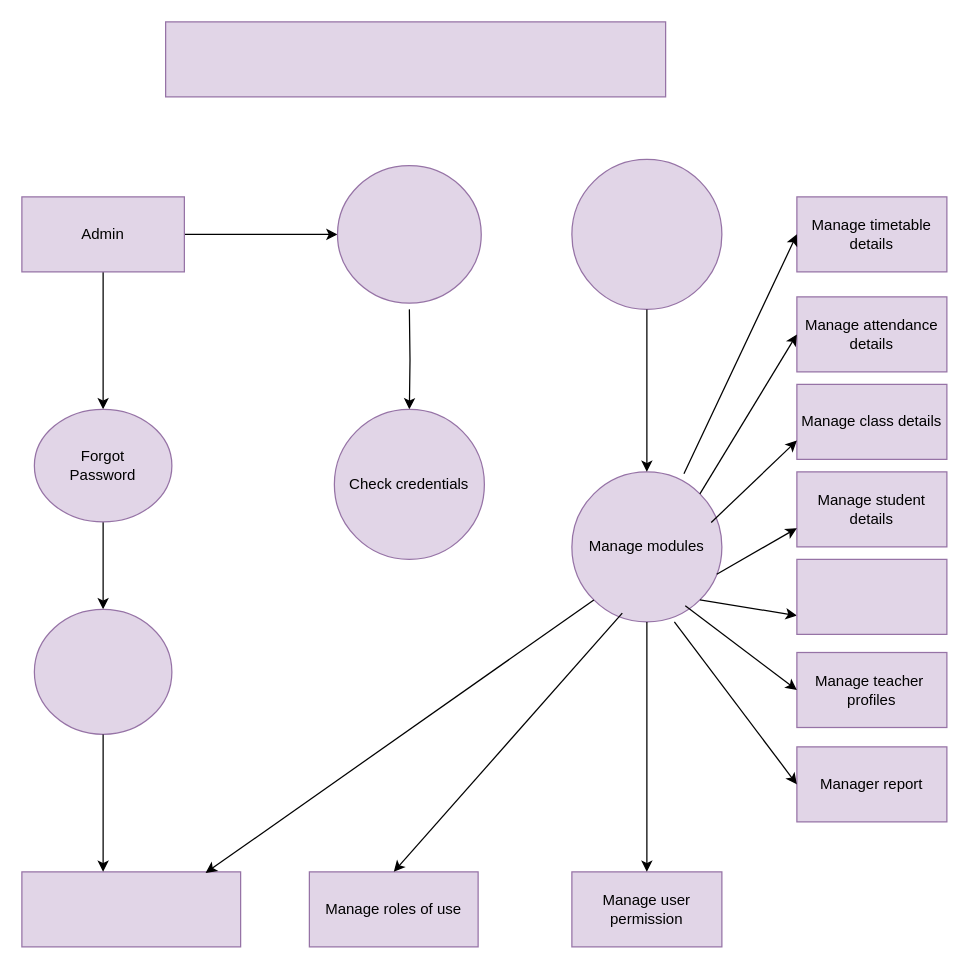
Image size: 969x969. Some labels were removed from this diagram. Here are the shapes that lost their labels. From the top down, the centre of each, then its label:
At (415,59): "Student information System".
At (408,233): "Login into System".
At (646,233): "Check Roles of access".
At (871,596): "Manage Fees details".
At (102,671): "Send email to user".
At (131,909): "Manage system Admins".
